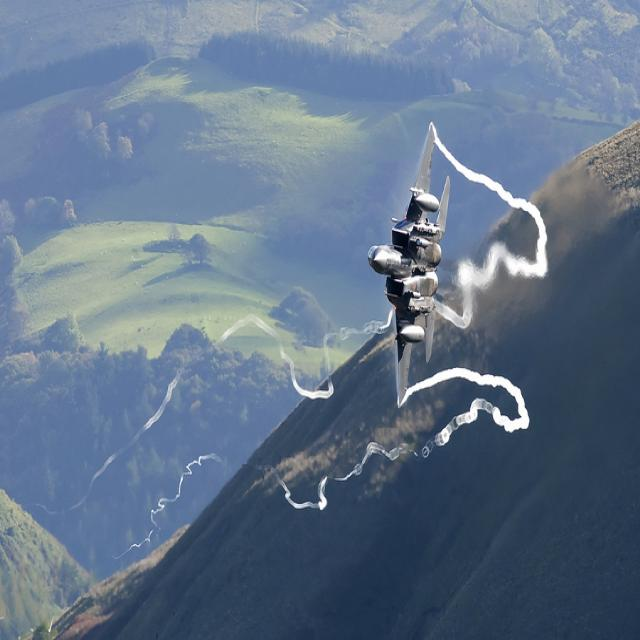MIL_Plane: (373, 122, 445, 408)
